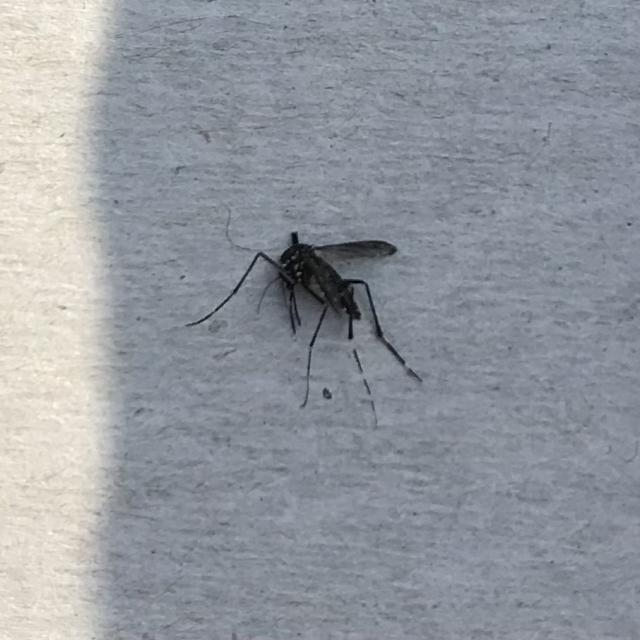albopictus: (186, 199, 426, 424)
